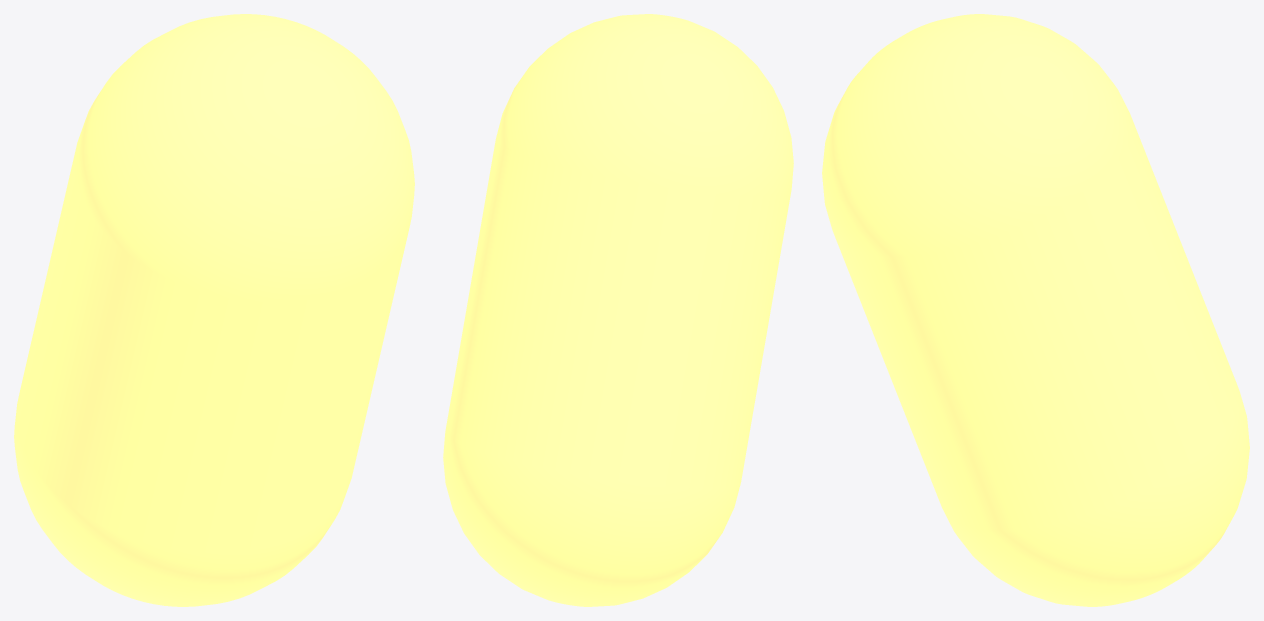
The model's file is item_weapon_pistol.glb.
3 views of the same model, side by side, from view 1: azimuth 30°, elevation 25°; view 2: azimuth 150°, elevation 25°; view 3: azimuth 270°, elevation 25° (orthographic). The views are drawn at different scales.
Parts seen in each view (by area): view 1: MeshInstance3D; view 2: MeshInstance3D; view 3: MeshInstance3D.
Part boxes in pixels (box(x1,y1,x2,y2)): MeshInstance3D: box(14, 14, 414, 606); MeshInstance3D: box(443, 14, 793, 606); MeshInstance3D: box(822, 14, 1249, 606).
Size of the model in its own units: 0.5 by 0.9707 by 0.6685.
